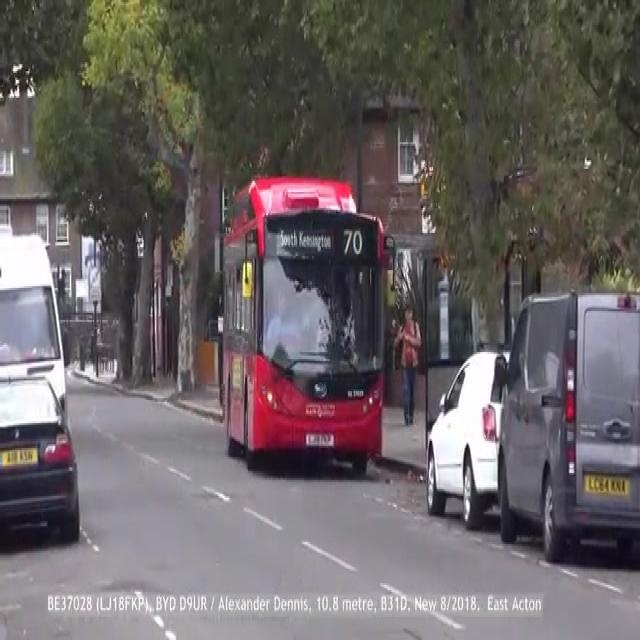Bus: (216, 166, 397, 465)
